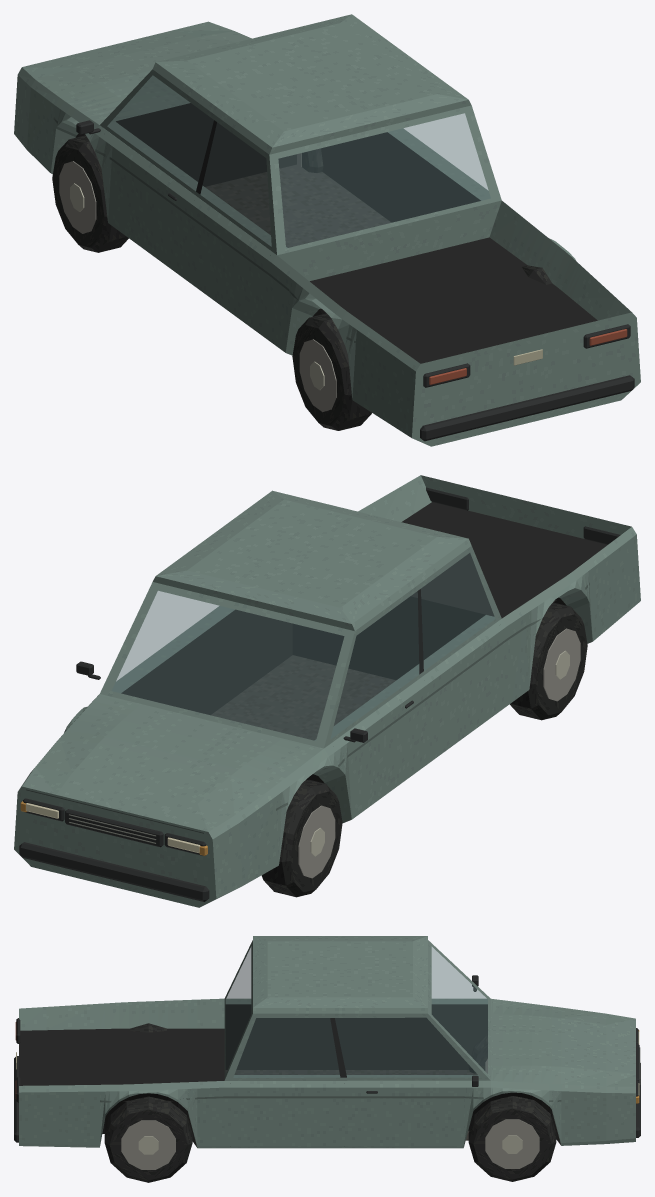
The model's file is vehicle_crew_pickup.glb.
3 renders of one model, top to bottom at view 1: azimuth 30°, elevation 25°; view 2: azimuth 150°, elevation 25°; view 3: azimuth 270°, elevation 25°, orthographic. The views are drawn at different scales.
Parts seen in each view (by area): view 1: closed_body, glazing, roof_body; view 2: closed_body, glazing, roof_body; view 3: closed_body, glazing, roof_body.
Boxes of the visible parts, x1,y1,x2,y2 form: closed_body: (14, 21, 640, 446); glazing: (107, 75, 490, 248); roof_body: (153, 14, 471, 154); closed_body: (14, 475, 640, 907); glazing: (112, 553, 495, 740); roof_body: (152, 490, 471, 630); closed_body: (14, 940, 640, 1182); glazing: (225, 947, 487, 1077); roof_body: (253, 936, 427, 1013).
Size of the model in its own units: 2.27 by 1.72 by 5.7.
2 materials, 2 textured.
